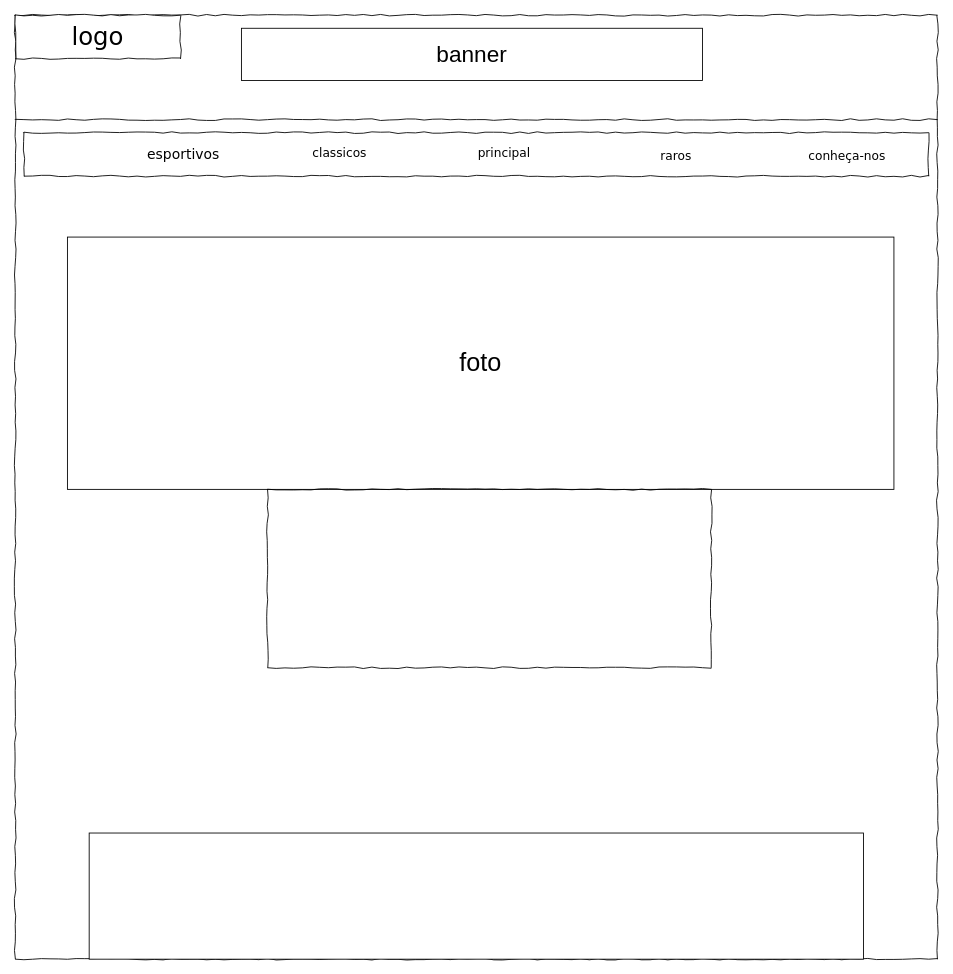
This 953x974 diagram has some shape labels left out. Each missing label, with the centre of its shape:
"descrição" belongs at pixel 489 578.
"desenvolvido por José e Gustavo" belongs at pixel 475 895.
